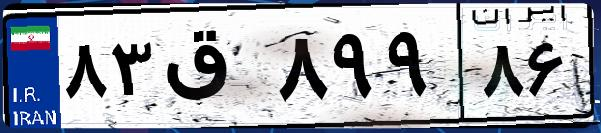3: (110, 28, 158, 98)
6: (525, 38, 570, 115)
8: (270, 28, 330, 110), (57, 26, 110, 100), (475, 38, 525, 113)
9: (385, 28, 445, 110), (330, 28, 385, 110)
ق: (158, 20, 270, 120)
